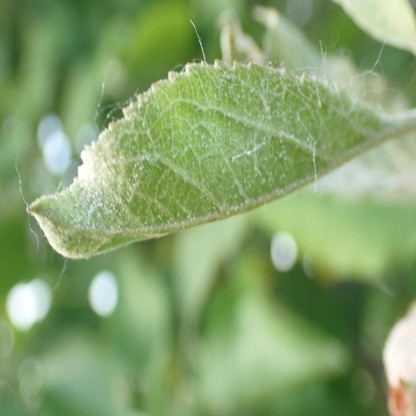powder: (26, 61, 383, 261)
